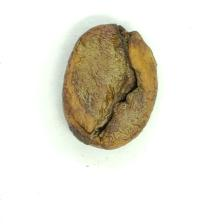NG: (68, 28, 144, 146)
